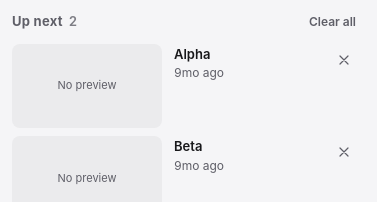
Test: UpNextQueue › removes a single row via its remove button
Step 1. Click the button named "Remove Alpha from the queue" → [344, 60], box [328,44,360,76]
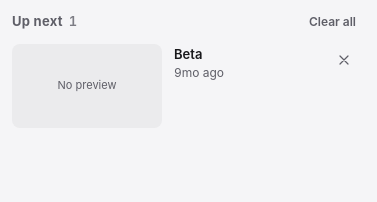
Expected: the link "Beta" is shown, [174,46,202,62]
Expected: the number of elements with test id "upnext-row" is 1, [12,44,356,128]
Expected: the link "Alpha" is gone
